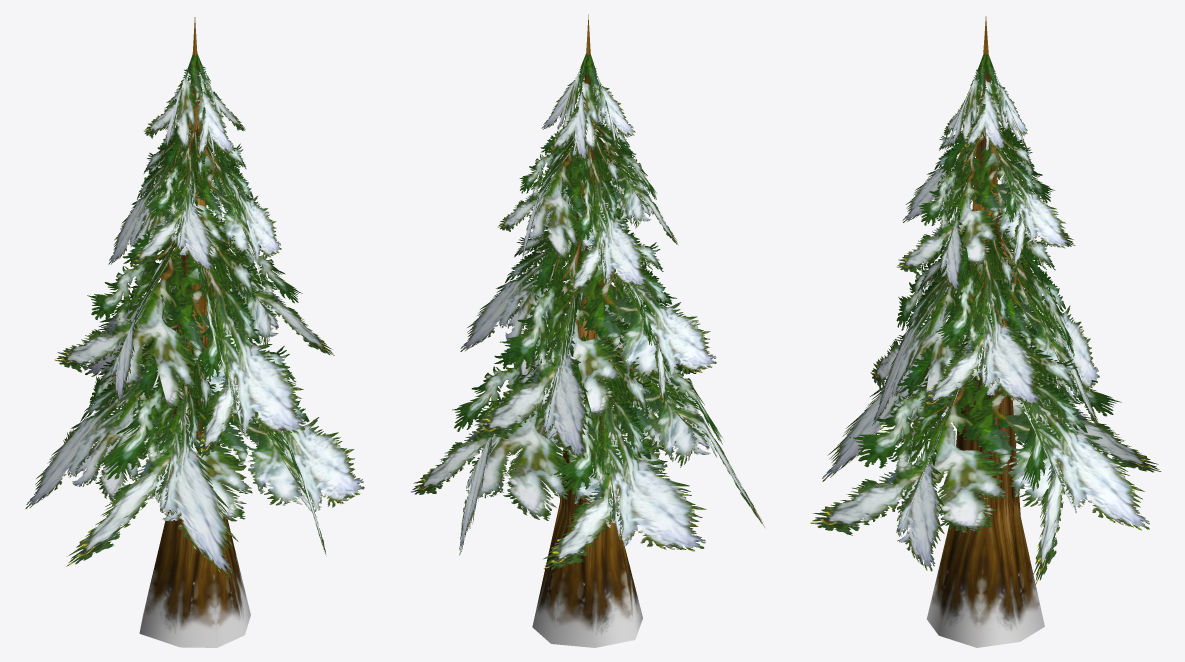
File: wintermidtree02.obj
3 renders of one model, left to right at view 1: azimuth 30°, elevation 25°; view 2: azimuth 150°, elevation 25°; view 3: azimuth 270°, elevation 25°, orthographic.
Visible parts, largest first — view 1: Geoset1, Geoset0; view 2: Geoset1, Geoset0; view 3: Geoset1, Geoset0.
Boxes of the visible parts, box(x1,y1,x2,y2) form: Geoset1: box(25, 53, 364, 577); Geoset0: box(139, 17, 250, 647); Geoset1: box(411, 53, 764, 569); Geoset0: box(532, 14, 642, 647); Geoset1: box(810, 54, 1161, 584); Geoset0: box(927, 16, 1044, 647).
Bounding box in the file's own units: 19.63 × 35.58 × 19.54.
2 materials, 2 textured.
